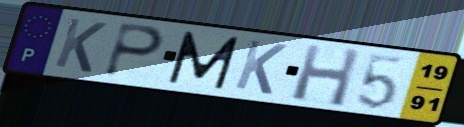5: (353, 51, 407, 110)
H: (289, 42, 363, 110)
K: (51, 15, 110, 75), (231, 37, 290, 97)
M: (165, 29, 243, 92)
P: (100, 21, 167, 80)
